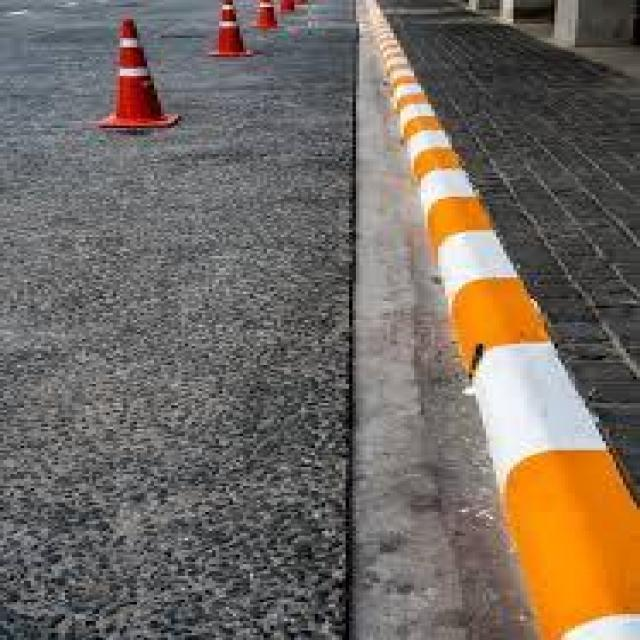curb: (424, 344, 640, 640), (346, 137, 521, 359), (354, 4, 429, 140)
